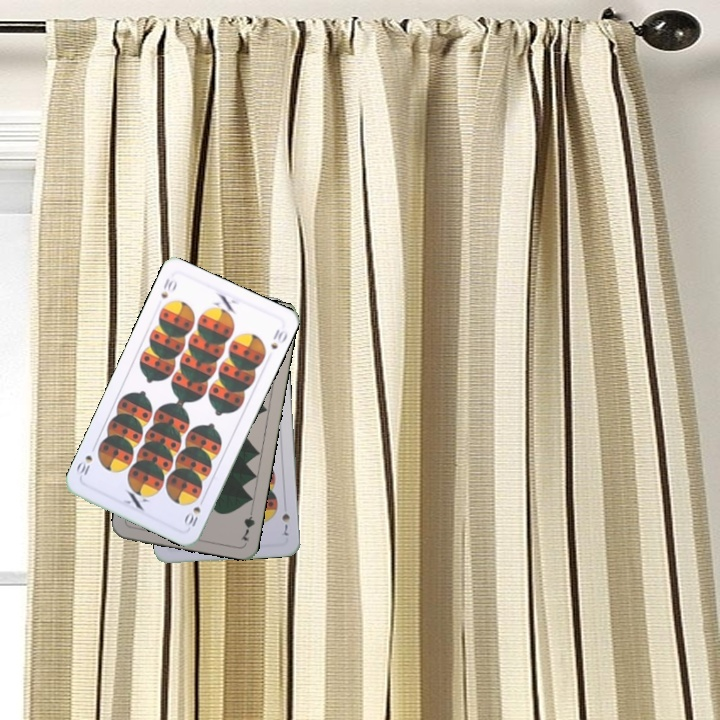G7: (237, 503, 257, 543)
S10: (180, 493, 207, 529), (156, 274, 180, 301)
S7: (278, 509, 292, 540)
